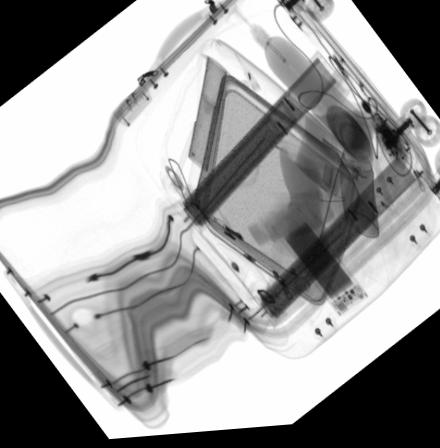Powerbank: (270, 208, 367, 322)
